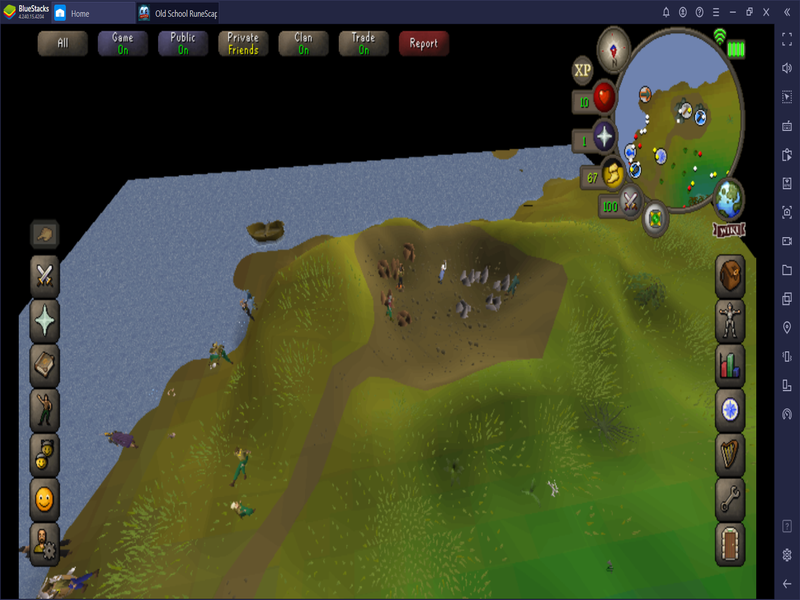copper_rock_1: (396, 308, 415, 327)
copper_rock_2: (378, 288, 395, 308)
